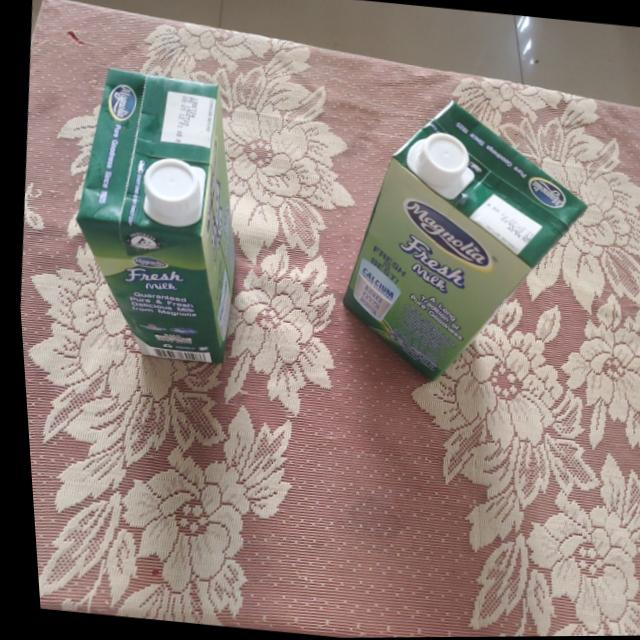milk: (319, 92, 599, 391), (53, 61, 256, 364)
